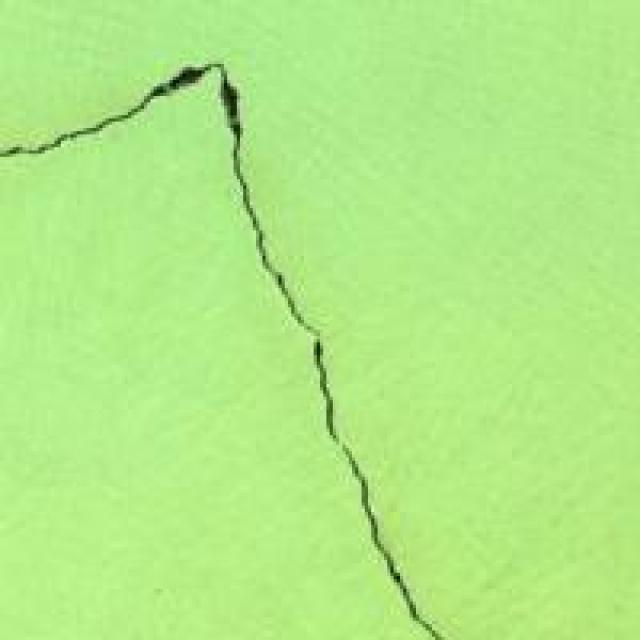Crack: (0, 41, 454, 636)
